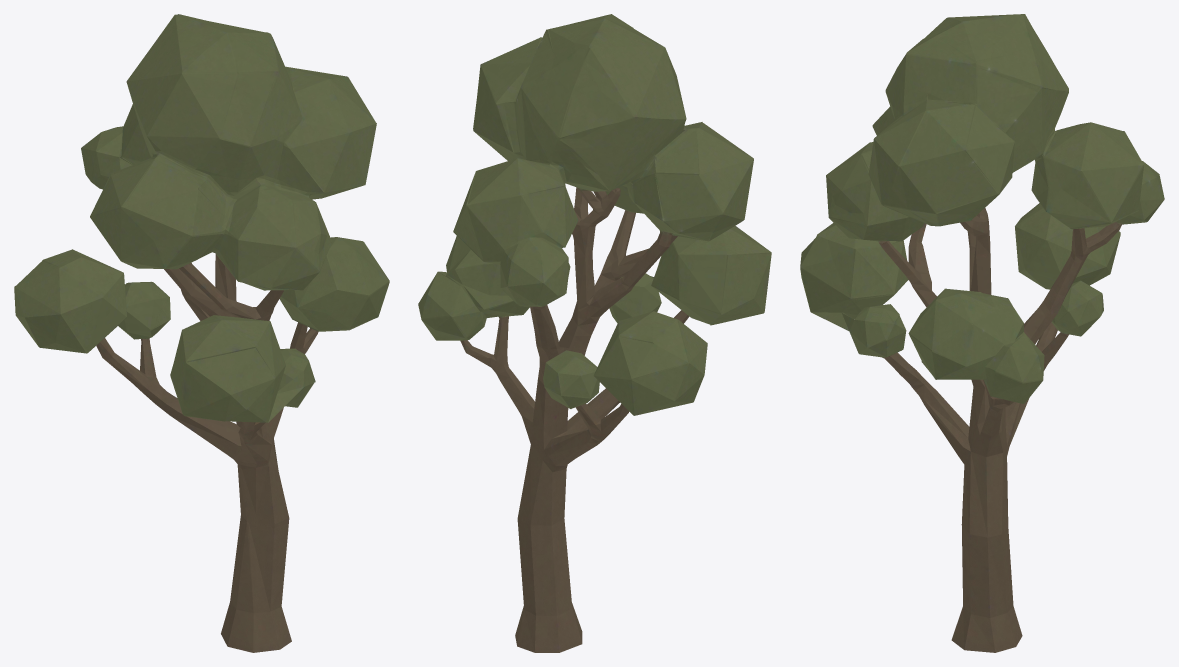
The model's file is tree.glb.
The picture shows the model from 3 angles, left to right: view 1: azimuth 30°, elevation 25°; view 2: azimuth 150°, elevation 25°; view 3: azimuth 270°, elevation 25°; orthographic projection. The views are drawn at different scales.
Parts seen in each view (by area): view 1: ddfd6f9a-55cf-441c-a266-cad3ba0220d3; view 2: ddfd6f9a-55cf-441c-a266-cad3ba0220d3; view 3: ddfd6f9a-55cf-441c-a266-cad3ba0220d3.
Boxes of the visible parts, x1,y1,x2,y2 form: ddfd6f9a-55cf-441c-a266-cad3ba0220d3: [14, 14, 389, 652]; ddfd6f9a-55cf-441c-a266-cad3ba0220d3: [418, 14, 771, 652]; ddfd6f9a-55cf-441c-a266-cad3ba0220d3: [800, 14, 1164, 652].
Bounding box in the file's own units: 0.5122 × 0.9951 × 0.5492.
1 material, 1 textured.
